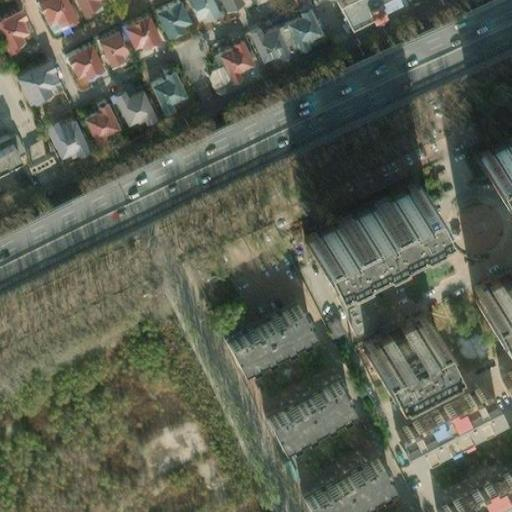building: (308, 182, 427, 259), (391, 383, 502, 461), (255, 376, 350, 446), (216, 296, 309, 362), (294, 455, 387, 512), (368, 319, 435, 369), (37, 111, 85, 165), (440, 476, 512, 512), (106, 76, 152, 129), (73, 95, 116, 146), (140, 60, 183, 111), (59, 44, 103, 90), (13, 69, 59, 109), (272, 10, 316, 48), (120, 15, 158, 58), (241, 26, 282, 62), (93, 31, 128, 73), (5, 52, 48, 86), (480, 275, 512, 318), (480, 137, 512, 176), (215, 38, 248, 75), (491, 369, 512, 410)
